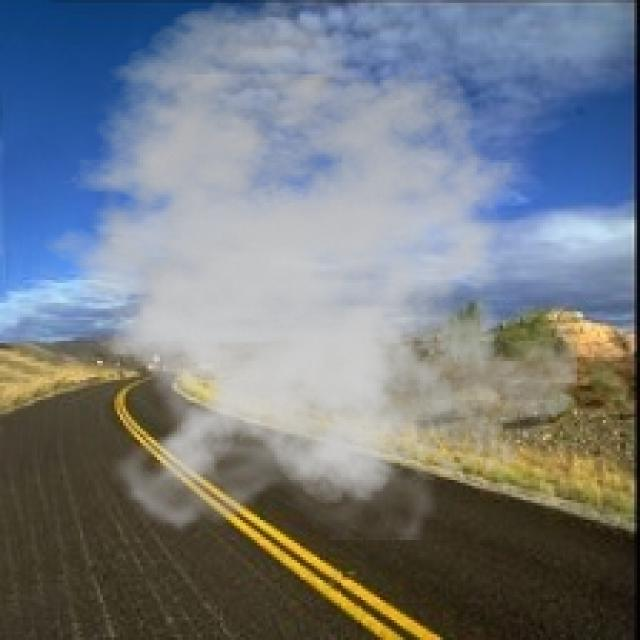smoke: (20, 0, 577, 540)
